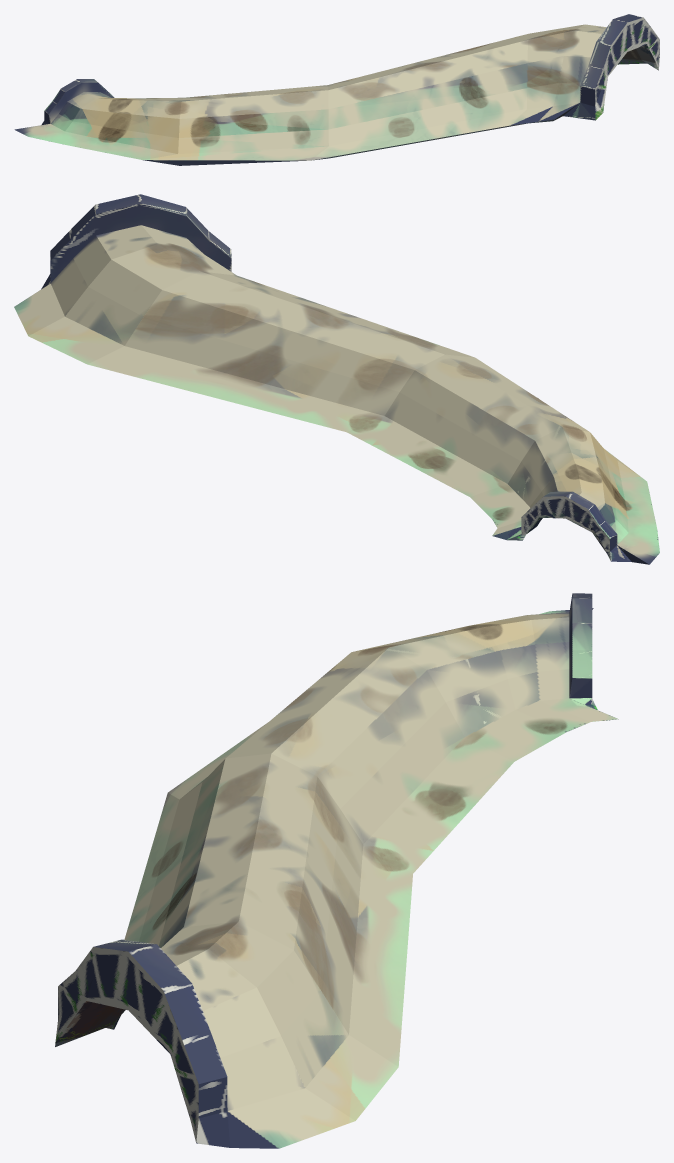
The model's file is puente.fbx.
3 renders of one model, top to bottom at view 1: azimuth 30°, elevation 25°; view 2: azimuth 150°, elevation 25°; view 3: azimuth 270°, elevation 25°, orthographic. The views are drawn at different scales.
Parts seen in each view (by area): view 1: puente; view 2: puente; view 3: puente.
Part boxes in pixels (x1,y1,x2,y2): puente: [14, 14, 659, 165]; puente: [14, 194, 659, 564]; puente: [55, 593, 618, 1148].
Bounding box in the file's own units: 9091 × 1228 × 4005.
